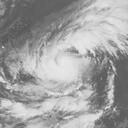cyclone: (29, 33, 92, 93)
